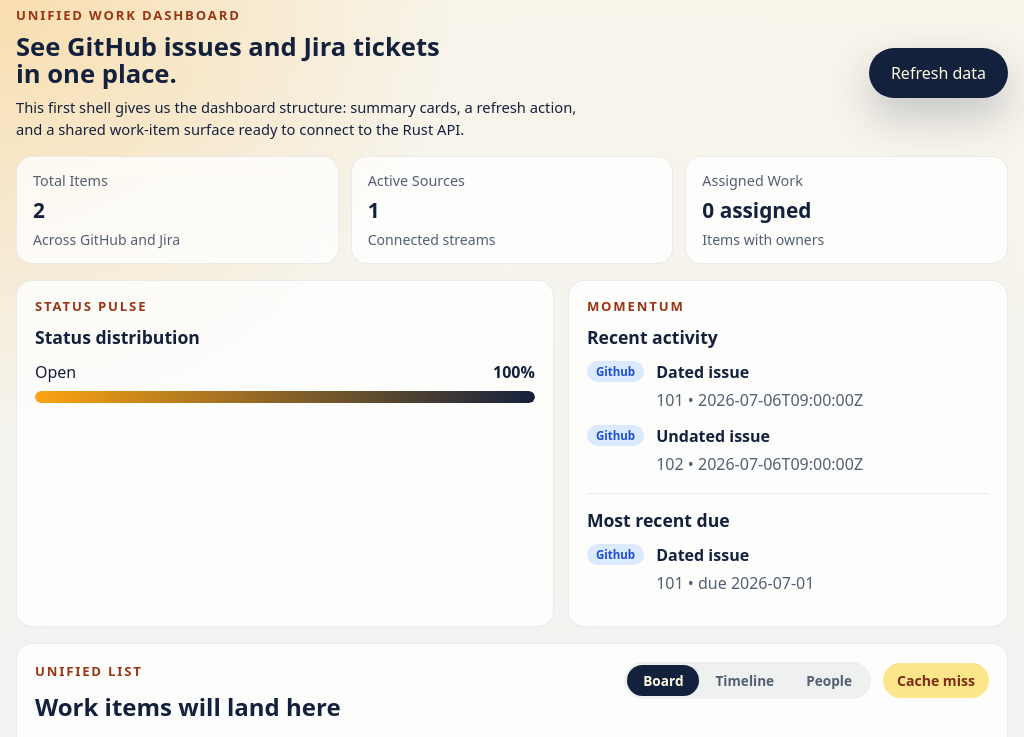
Scenario: App shell › switches to the timeline view, placing dated issues and listing undated ones
The width and height of the screenshot is (1024, 737).
expect the button "Refresh data" is shown: met, box [869,48,1008,98]
Click the tab "Timeline": (745, 680) [700,665,790,696]
(page scrolled)
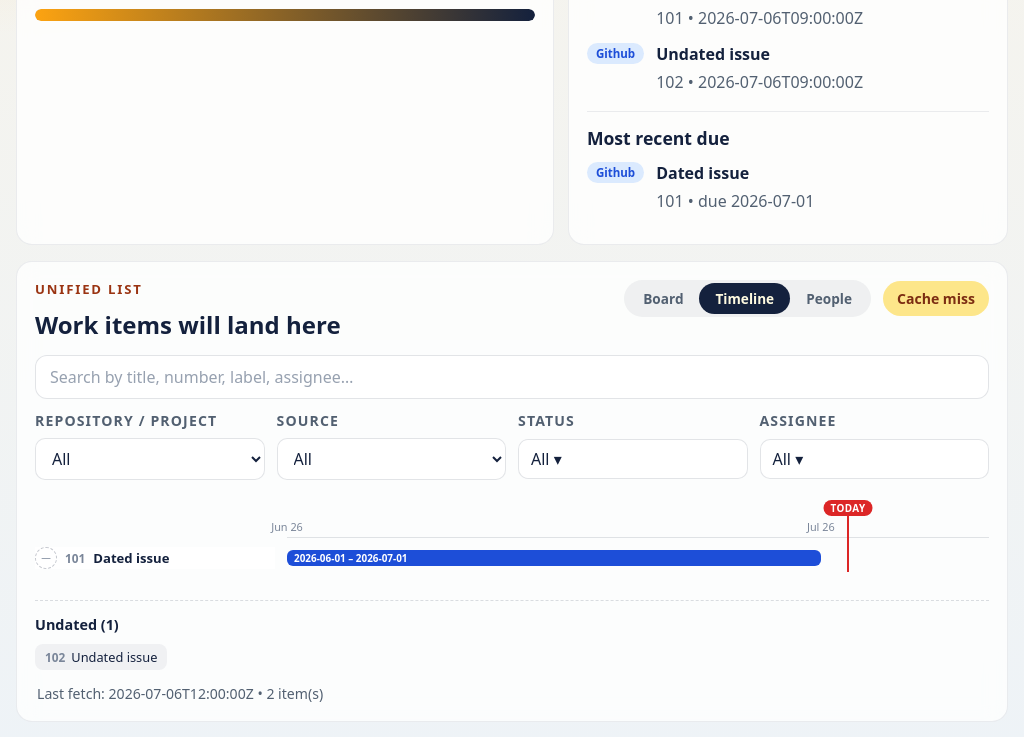
expect the link "Dated issue" is shown: met, box [93,549,170,567]
expect the heading "Undated (1)" is shown: met, box [35,615,119,634]
